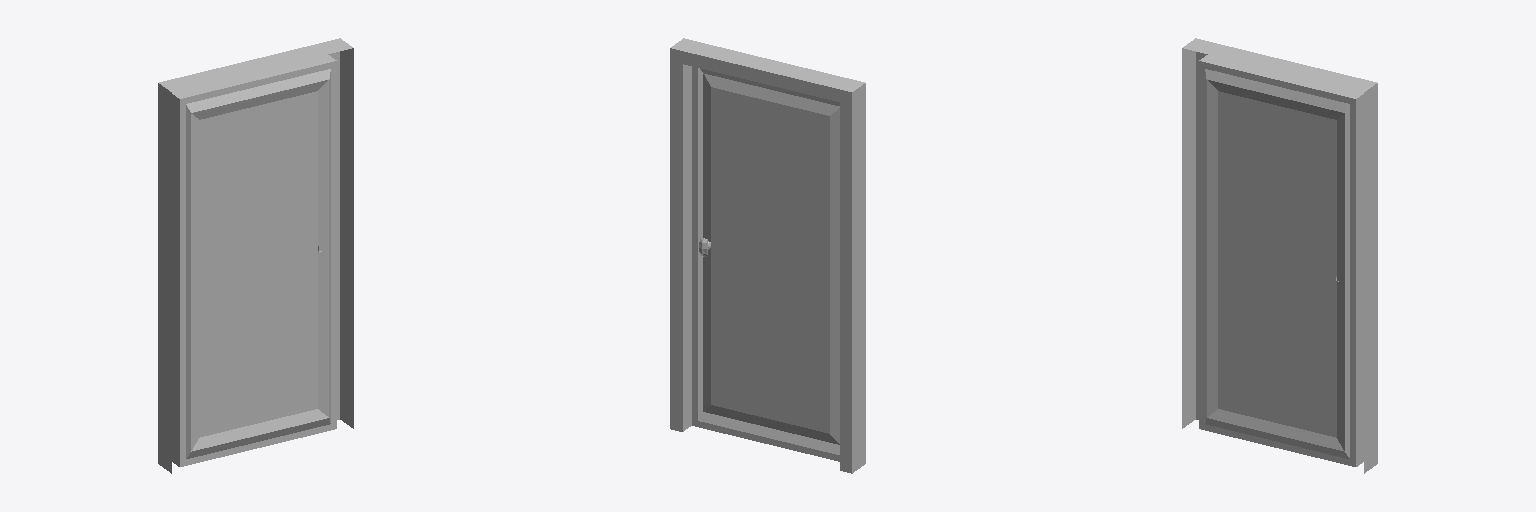
Rendered from SpawnDoor.obj.
3 renders of one model, left to right at view 1: azimuth 30°, elevation 25°; view 2: azimuth 150°, elevation 25°; view 3: azimuth 330°, elevation 25°, orthographic.
Size of the model in its own units: 1.17 by 2.34 by 0.1495.